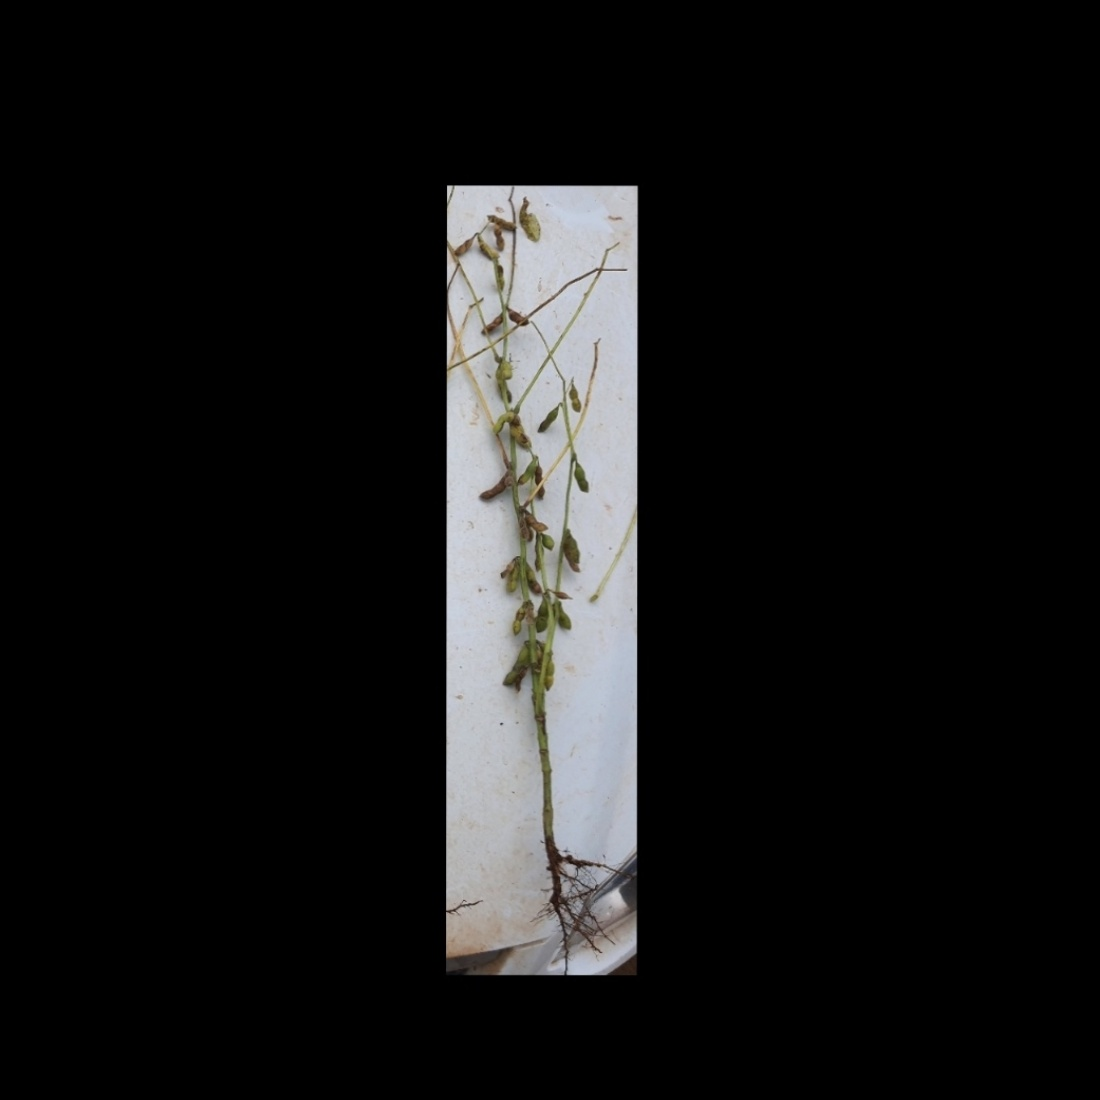pod: (473, 468, 510, 504), (534, 402, 563, 436), (478, 308, 505, 339), (531, 599, 551, 636), (489, 409, 511, 441), (488, 208, 517, 232), (453, 231, 477, 258), (515, 457, 537, 486), (502, 304, 528, 327), (512, 603, 529, 636), (565, 382, 582, 413), (556, 602, 573, 633), (542, 657, 556, 693), (573, 462, 589, 493), (490, 225, 506, 251), (496, 261, 507, 292), (502, 360, 515, 384), (542, 533, 556, 554)
soy: (449, 195, 625, 955)
